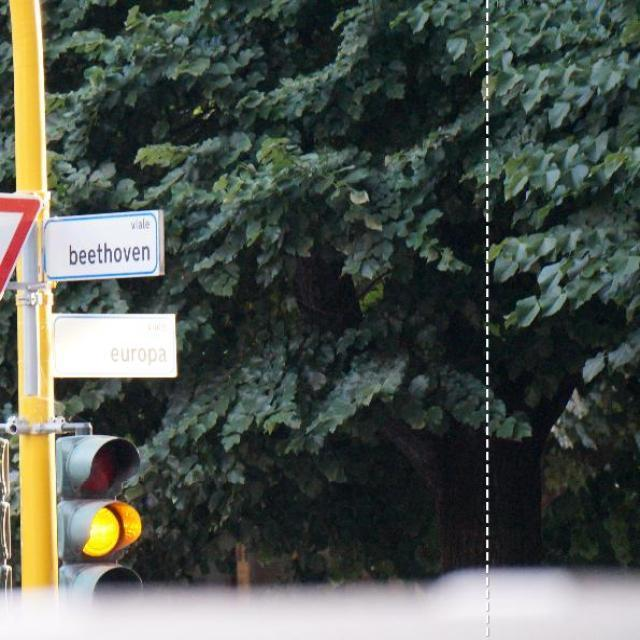yellow_light: (63, 230, 566, 398)
